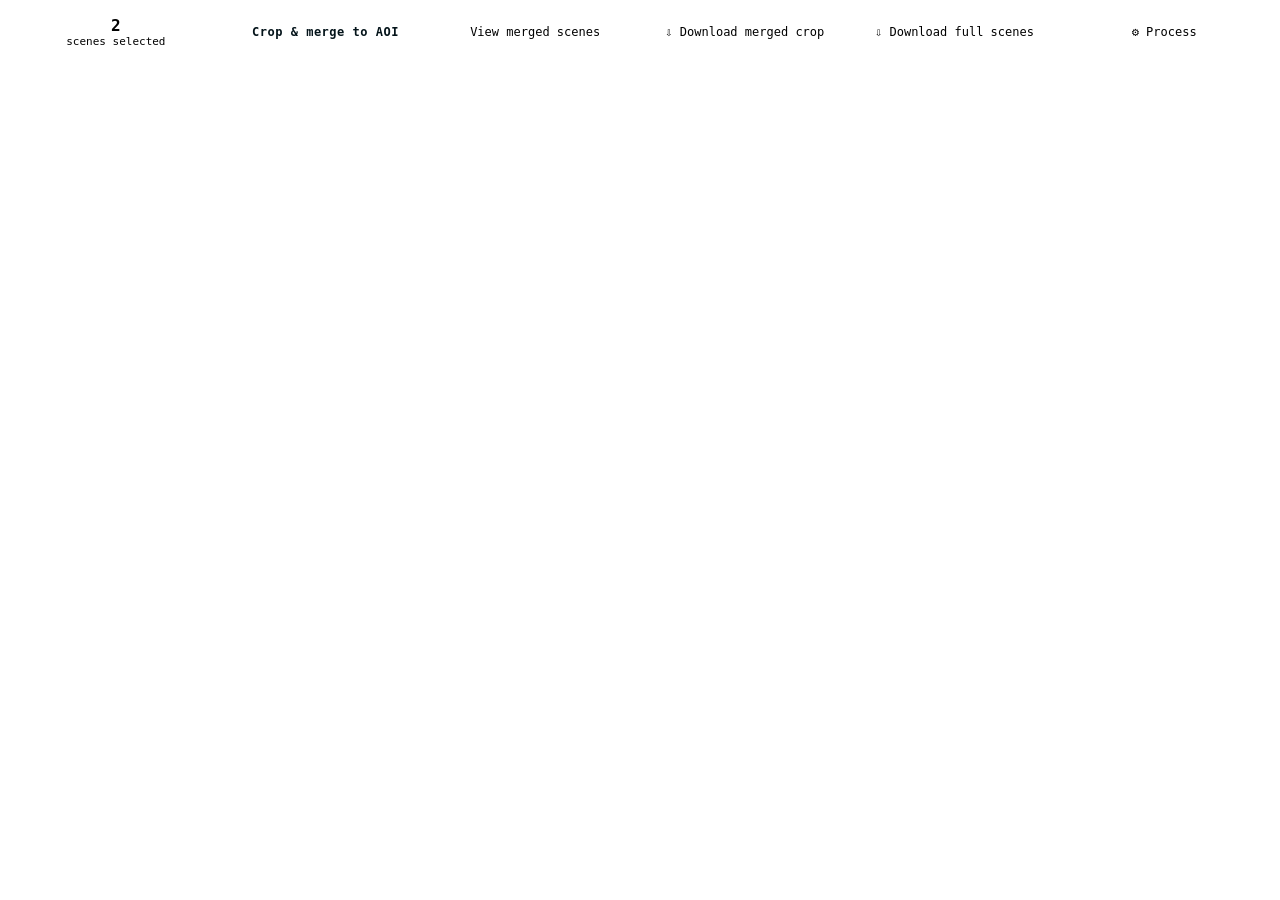
it: the other entries are as they were › the selection opens the panel with the choice of the area and "Run as"
The width and height of the screenshot is (1280, 900).
Click the button "⚙ Process" at x=1164, y=32, box [1064,10,1264,54]
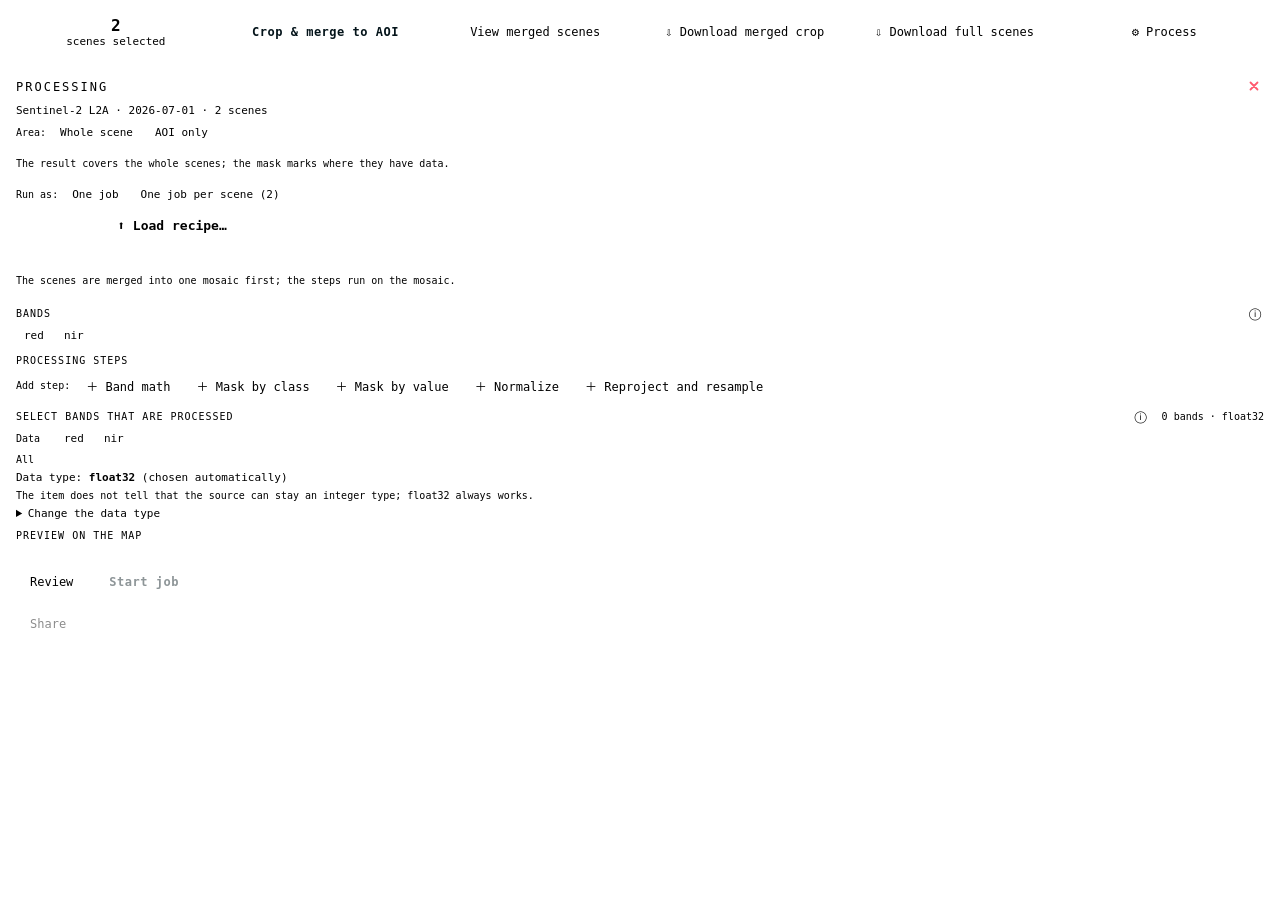
Expected: the button "Whole scene" is shown, [52,123,141,142]
Expected: the button "AOI only" is shown, [147,123,216,142]
Expected: the element named "Run as" is shown, [16,185,288,204]
